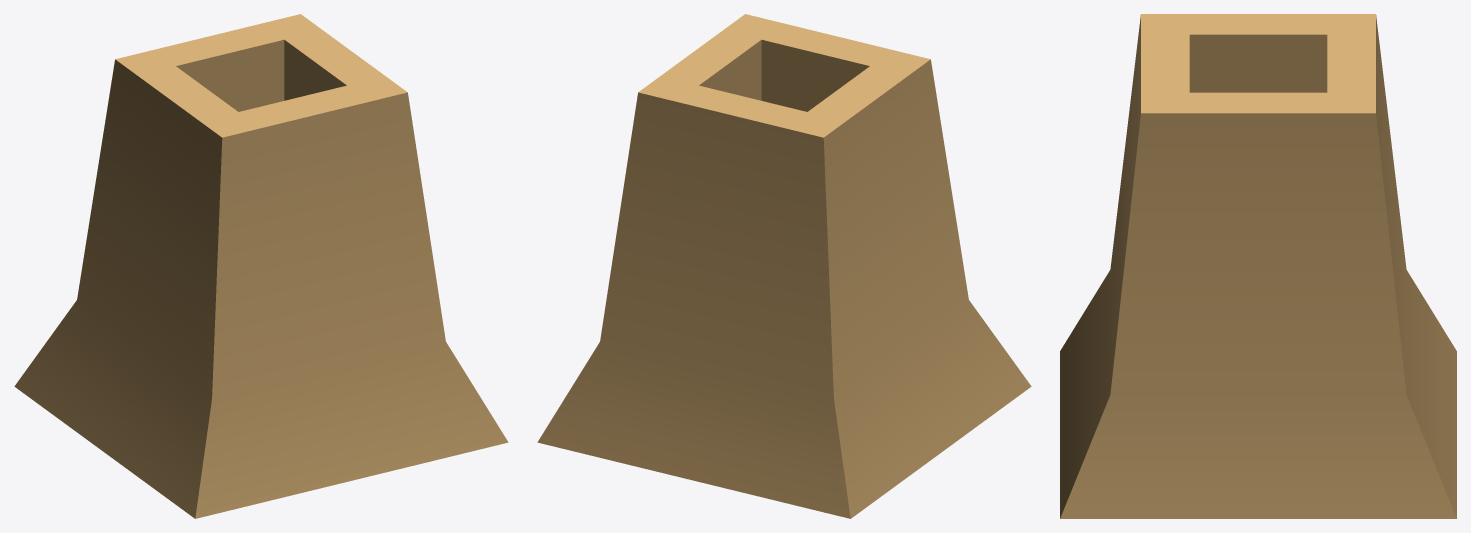
File: naturePack_108.fbx
3 renders of one model, left to right at view 1: azimuth 30°, elevation 25°; view 2: azimuth 150°, elevation 25°; view 3: azimuth 270°, elevation 25°, orthographic. The views are drawn at different scales.
Visible parts, largest first — view 1: Mesh1_Trunk Model; view 2: Mesh1_Trunk Model; view 3: Mesh1_Trunk Model.
Part boxes in pixels (<box>): Mesh1_Trunk Model: <box>14,14,508,518</box>; Mesh1_Trunk Model: <box>537,14,1031,518</box>; Mesh1_Trunk Model: <box>1060,14,1456,518</box>.
Size of the model in its own units: 0.8037 by 0.83 by 0.8037.
